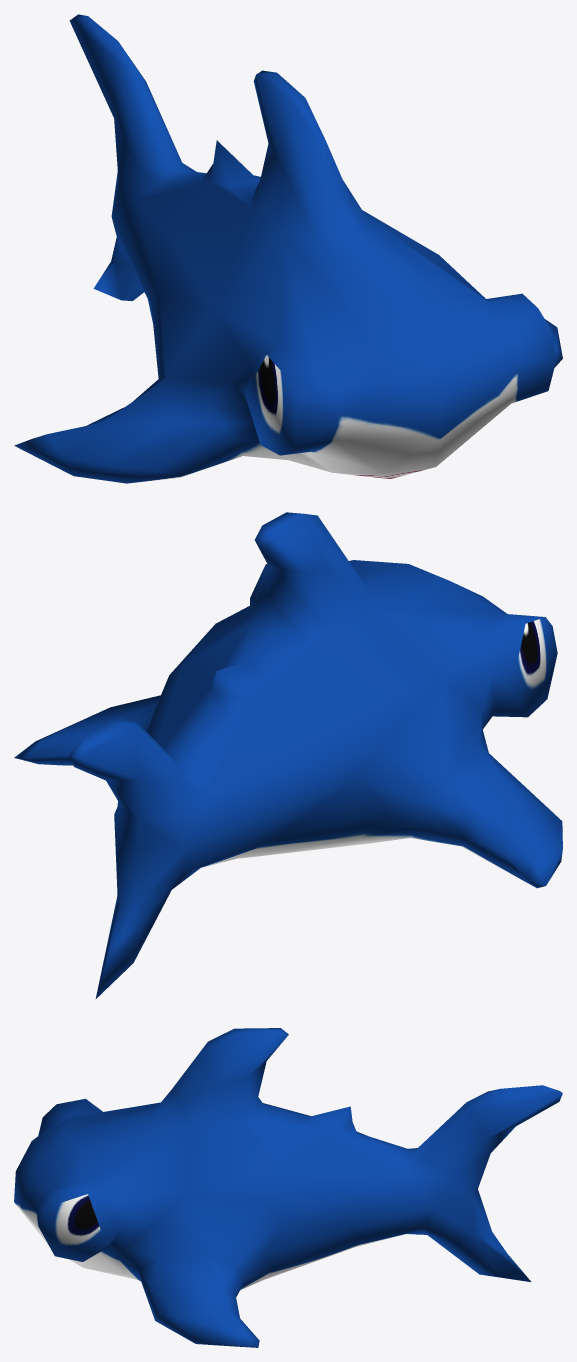
The model's file is squalo.fbx.
The picture shows the model from 3 angles, top to bottom: view 1: azimuth 30°, elevation 25°; view 2: azimuth 150°, elevation 25°; view 3: azimuth 270°, elevation 25°; orthographic projection. The views are drawn at different scales.
Parts seen in each view (by area): view 1: Group57338; view 2: Group57338; view 3: Group57338.
Boxes of the visible parts, <box> form: Group57338: <box>14,14,562,483</box>; Group57338: <box>14,512,562,998</box>; Group57338: <box>14,1028,562,1347</box>.
Bounding box in the file's own units: 1109 × 685 × 1343.
1 material, 1 textured.
